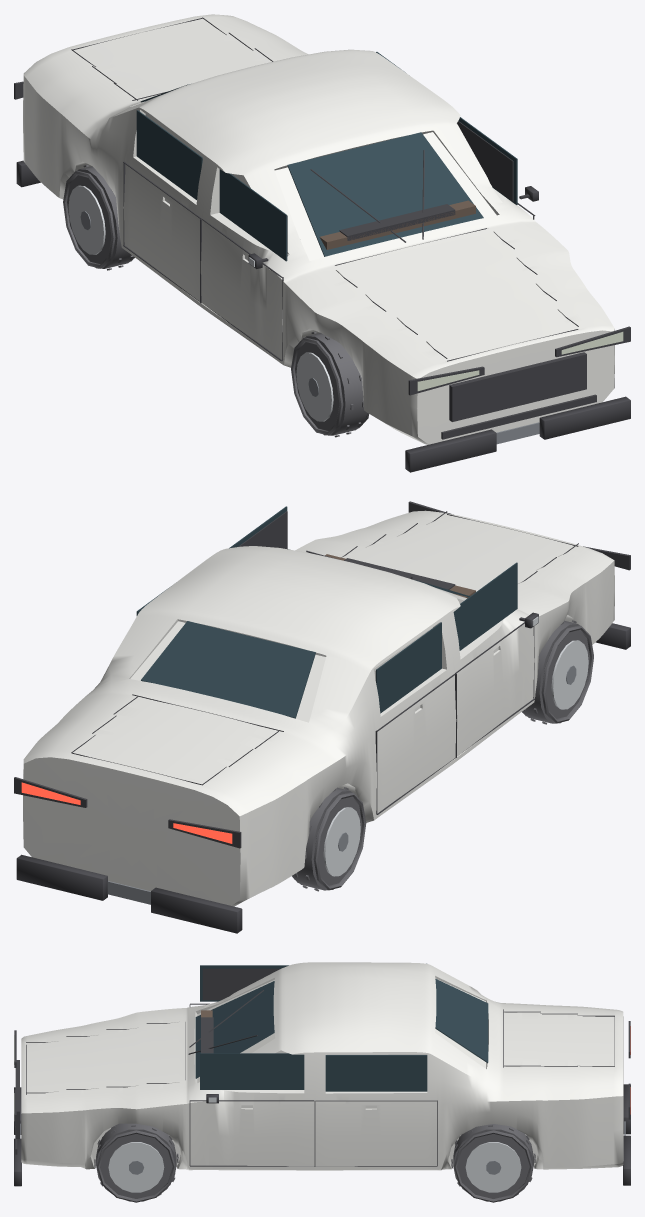
File: Sedan_Mid_A_21_White.fbx
3 views of the same model, one above another, from view 1: azimuth 30°, elevation 25°; view 2: azimuth 150°, elevation 25°; view 3: azimuth 270°, elevation 25° (orthographic). The views are drawn at different scales.
Parts seen in each view (by area): view 1: LOD0; view 2: LOD0; view 3: LOD0.
Boxes of the visible parts, x1,y1,x2,y2 form: LOD0: [14, 14, 630, 472]; LOD0: [14, 501, 630, 933]; LOD0: [14, 962, 630, 1202].
Size of what is drawn, in the model's own units: 204 by 144 by 488.
